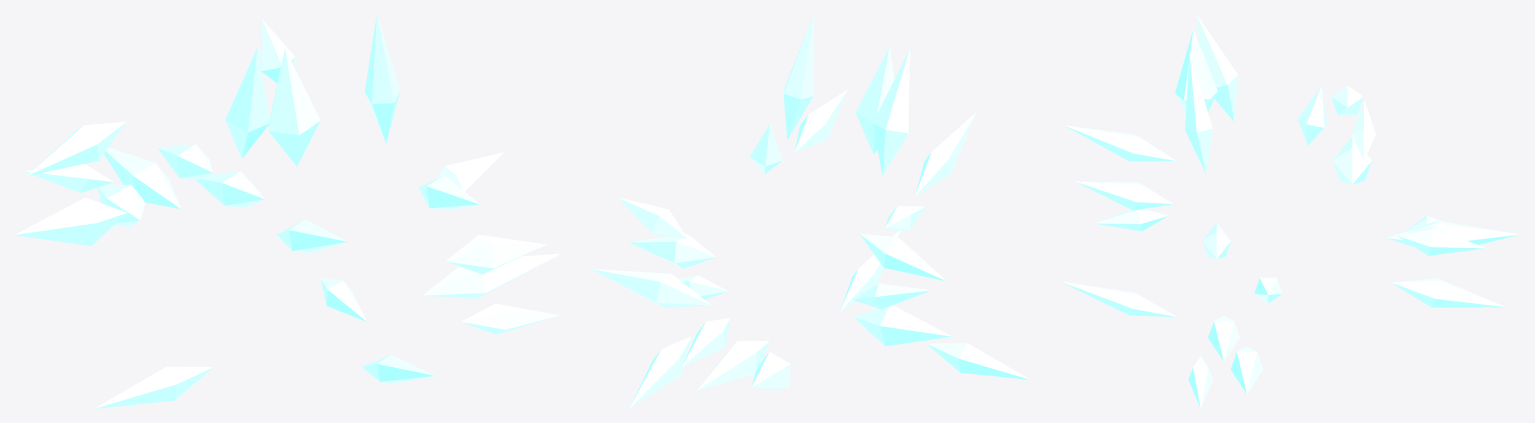
The model's file is lumite-ore.glb.
The picture shows the model from 3 angles, left to right: view 1: azimuth 30°, elevation 25°; view 2: azimuth 150°, elevation 25°; view 3: azimuth 270°, elevation 25°; orthographic projection. The views are drawn at different scales.
Parts seen in each view (by area): view 1: ore; view 2: ore; view 3: ore.
Part boxes in pixels (box(x1,y1,x2,y2)): ore: box(14, 15, 560, 408); ore: box(591, 15, 1030, 408); ore: box(1060, 14, 1519, 408).
Bounding box in the file's own units: 3.32 × 2.33 × 3.41.
